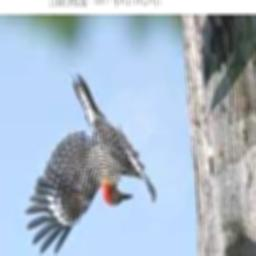Woodpecker: (24, 74, 156, 255)
